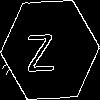Z: (25, 24, 55, 72)
